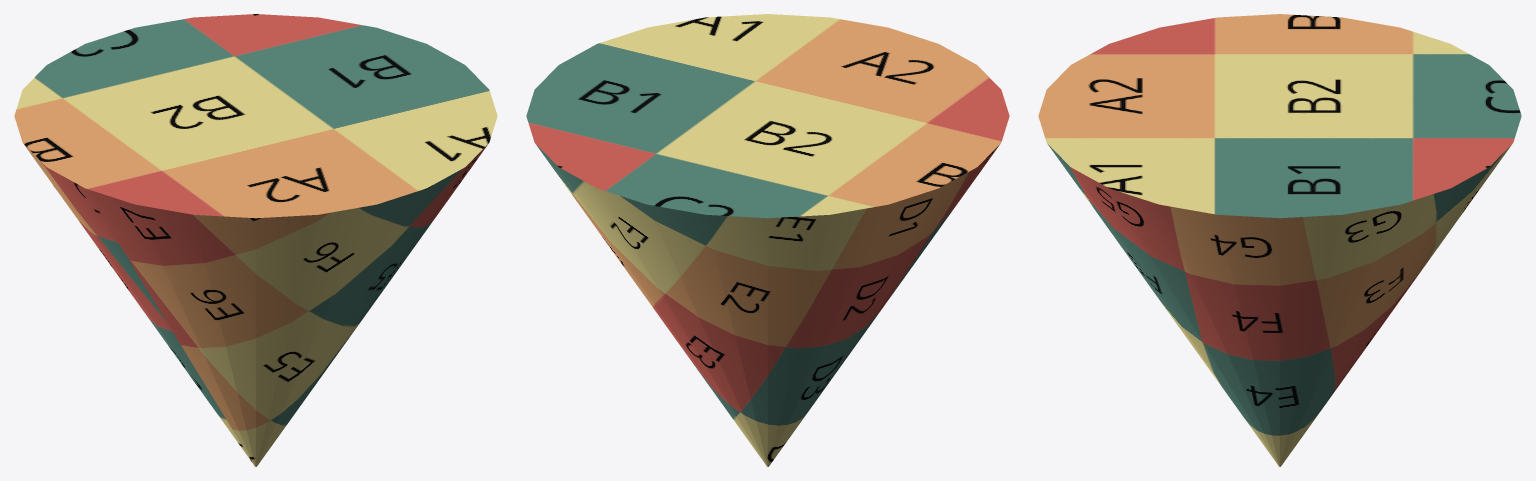
The model's file is Level-4_Laser-Top.FBX.
The picture shows the model from 3 angles, left to right: view 1: azimuth 30°, elevation 25°; view 2: azimuth 150°, elevation 25°; view 3: azimuth 270°, elevation 25°; orthographic projection.
Parts seen in each view (by area): view 1: Laser-Top; view 2: Laser-Top; view 3: Laser-Top.
Part boxes in pixels (bbox=[...]): Laser-Top: bbox=[14, 14, 497, 466]; Laser-Top: bbox=[526, 14, 1009, 466]; Laser-Top: bbox=[1038, 14, 1521, 466].
Size of what is drawn, in the model's own units: 500 by 500 by 400.
Materials: 1 (1 with a texture image).
